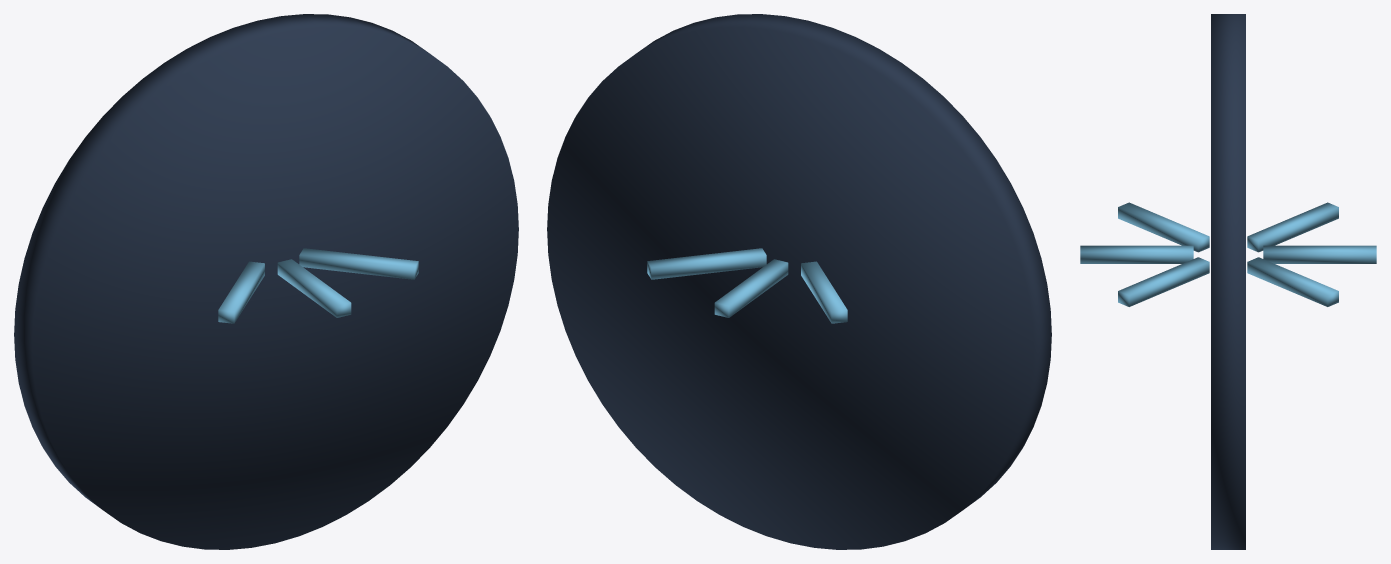
The model's file is ground-descent-hatch-v1.gltf.
3 views of the same model, side by side, from view 1: azimuth 30°, elevation 25°; view 2: azimuth 150°, elevation 25°; view 3: azimuth 270°, elevation 25° (orthographic). The views are drawn at different scales.
Parts seen in each view (by area): view 1: ground-descent-hatch-v1-00, ground-descent-hatch-v1-04, ground-descent-hatch-v1-03, ground-descent-hatch-v1-10; view 2: ground-descent-hatch-v1-00, ground-descent-hatch-v1-06, ground-descent-hatch-v1-07, ground-descent-hatch-v1-08; view 3: ground-descent-hatch-v1-00, ground-descent-hatch-v1-03, ground-descent-hatch-v1-07, ground-descent-hatch-v1-04, ground-descent-hatch-v1-06, ground-descent-hatch-v1-08, ground-descent-hatch-v1-10.
Boxes of the visible parts, bbox=[...] form: ground-descent-hatch-v1-00: bbox=[14, 14, 518, 549]; ground-descent-hatch-v1-04: bbox=[299, 248, 418, 279]; ground-descent-hatch-v1-03: bbox=[277, 259, 351, 317]; ground-descent-hatch-v1-10: bbox=[218, 261, 264, 323]; ground-descent-hatch-v1-00: bbox=[547, 14, 1051, 549]; ground-descent-hatch-v1-06: bbox=[647, 248, 766, 279]; ground-descent-hatch-v1-07: bbox=[714, 259, 788, 317]; ground-descent-hatch-v1-08: bbox=[801, 261, 847, 323]; ground-descent-hatch-v1-00: bbox=[1211, 14, 1245, 549]; ground-descent-hatch-v1-03: bbox=[1080, 245, 1193, 263]; ground-descent-hatch-v1-07: bbox=[1263, 245, 1376, 263]; ground-descent-hatch-v1-04: bbox=[1118, 257, 1209, 306]; ground-descent-hatch-v1-06: bbox=[1247, 257, 1338, 306]; ground-descent-hatch-v1-08: bbox=[1247, 202, 1338, 252]; ground-descent-hatch-v1-10: bbox=[1118, 202, 1209, 252].
Bounding box in the file's own units: 3.4 × 3.4 × 1.88.
